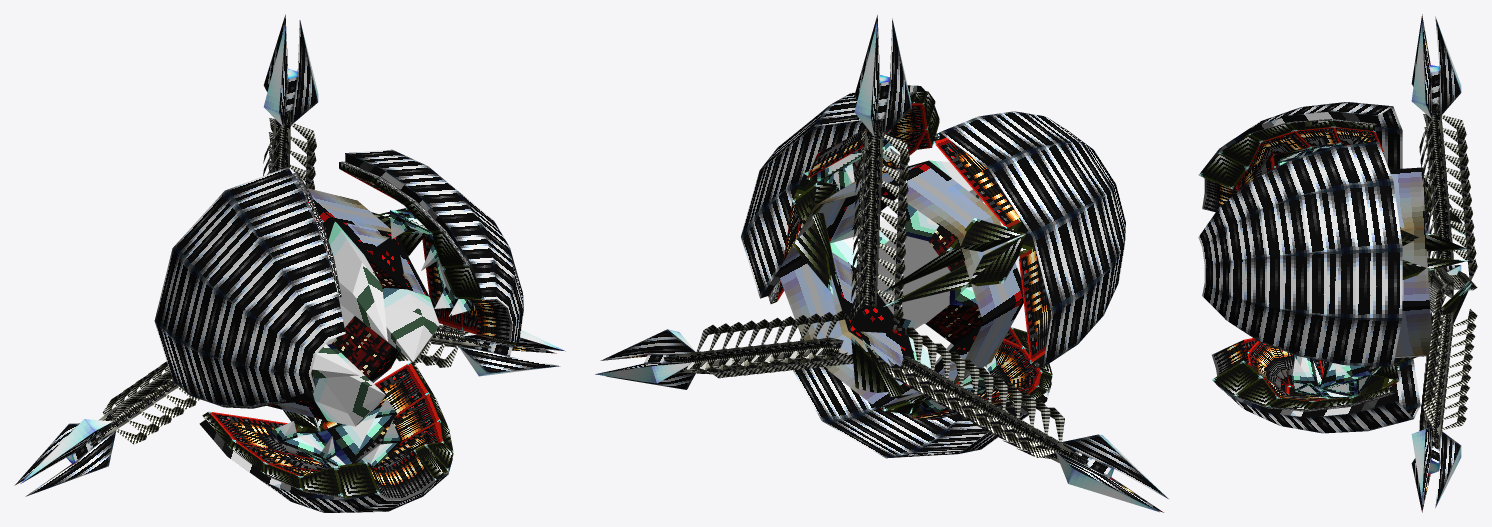
File: final_boss.fbx
3 renders of one model, left to right at view 1: azimuth 30°, elevation 25°; view 2: azimuth 150°, elevation 25°; view 3: azimuth 270°, elevation 25°, orthographic. The views are drawn at different scales.
Parts seen in each view (by area): view 1: ShapeIndexedFaceSet.097; view 2: ShapeIndexedFaceSet.097; view 3: ShapeIndexedFaceSet.097.
Part boxes in pixels (box(x1,y1,x2,y2)): ShapeIndexedFaceSet.097: box(14, 14, 565, 512); ShapeIndexedFaceSet.097: box(595, 15, 1168, 512); ShapeIndexedFaceSet.097: box(1198, 14, 1477, 512).
Bounding box in the file's own units: 6647 × 5159 × 3220.
Materials: 12 (11 with a texture image).
